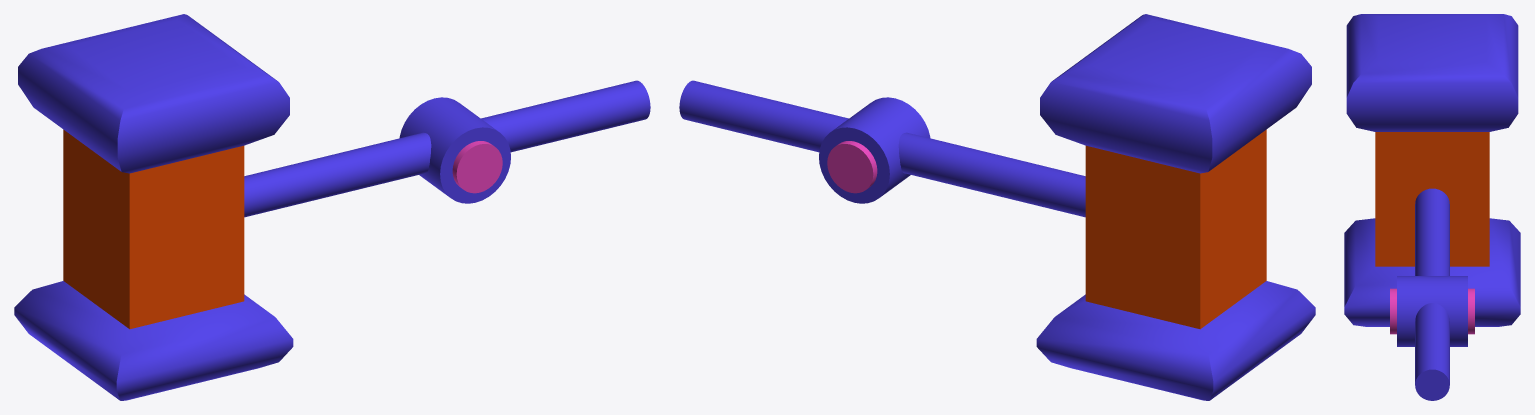
File: hammer.fbx
3 renders of one model, left to right at view 1: azimuth 30°, elevation 25°; view 2: azimuth 150°, elevation 25°; view 3: azimuth 270°, elevation 25°, orthographic. The views are drawn at different scales.
Parts seen in each view (by area): view 1: Cube.011; view 2: Cube.011; view 3: Cube.011.
Part boxes in pixels (box(x1,y1,x2,y2)): Cube.011: box(14, 14, 650, 400); Cube.011: box(679, 14, 1315, 400); Cube.011: box(1344, 14, 1520, 400).
Bounding box in the file's own units: 1002 × 500 × 308.
